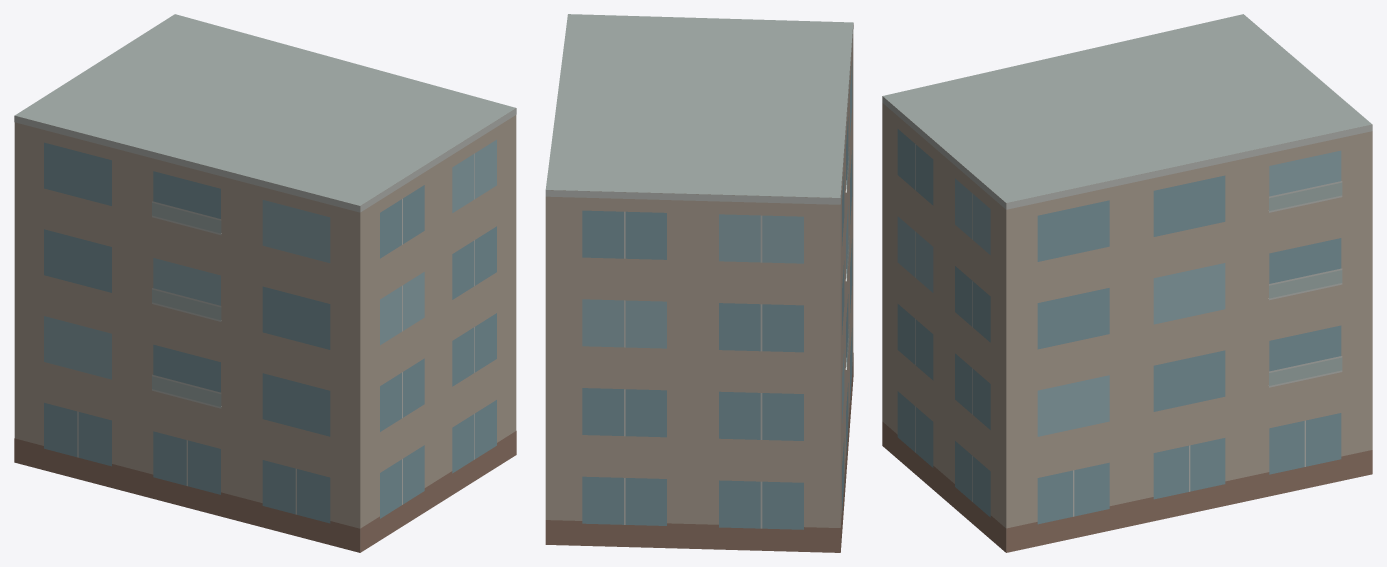
File: survey-upis-32641495.glb
3 views of the same model, side by side, from view 1: azimuth 30°, elevation 25°; view 2: azimuth 150°, elevation 25°; view 3: azimuth 270°, elevation 25° (orthographic). The views are drawn at different scales.
Visible parts, largest first — view 1: survey-upis-32641495.tmp; view 2: survey-upis-32641495.tmp; view 3: survey-upis-32641495.tmp.
Boxes of the visible parts, x1,y1,x2,y2 form: survey-upis-32641495.tmp: (14,14,516,552); survey-upis-32641495.tmp: (545,14,853,552); survey-upis-32641495.tmp: (882,14,1372,552).
Size of the model in its own units: 14.79 by 12.75 by 16.2.
